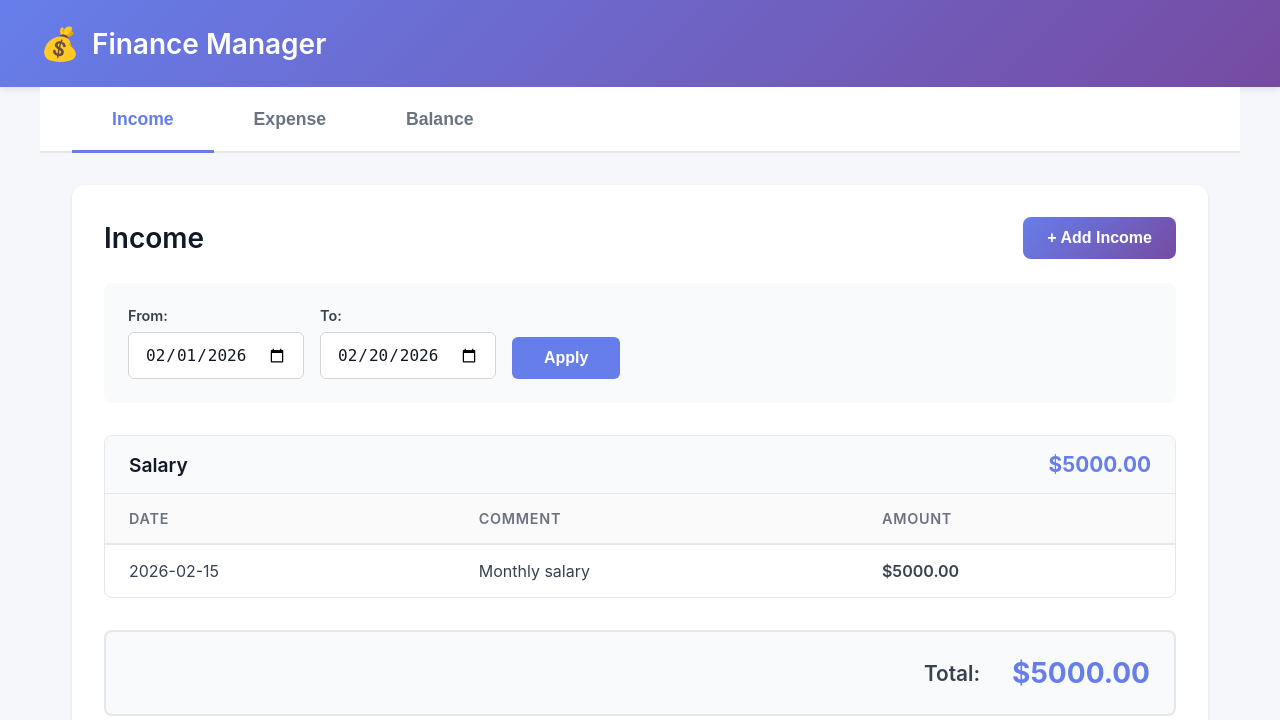
Test: Finance Manager - Balance Tab › Expenses View › should display expenses in Category and Amount format
The image size is (1280, 720).
expect the header with class "app-header" is shown: met, box [0, 0, 1279, 87]
expect the navigation bar with class "nav-tabs" is shown: met, box [40, 87, 1240, 153]
Click the button "Balance" at (440, 121), box [366, 89, 514, 153]
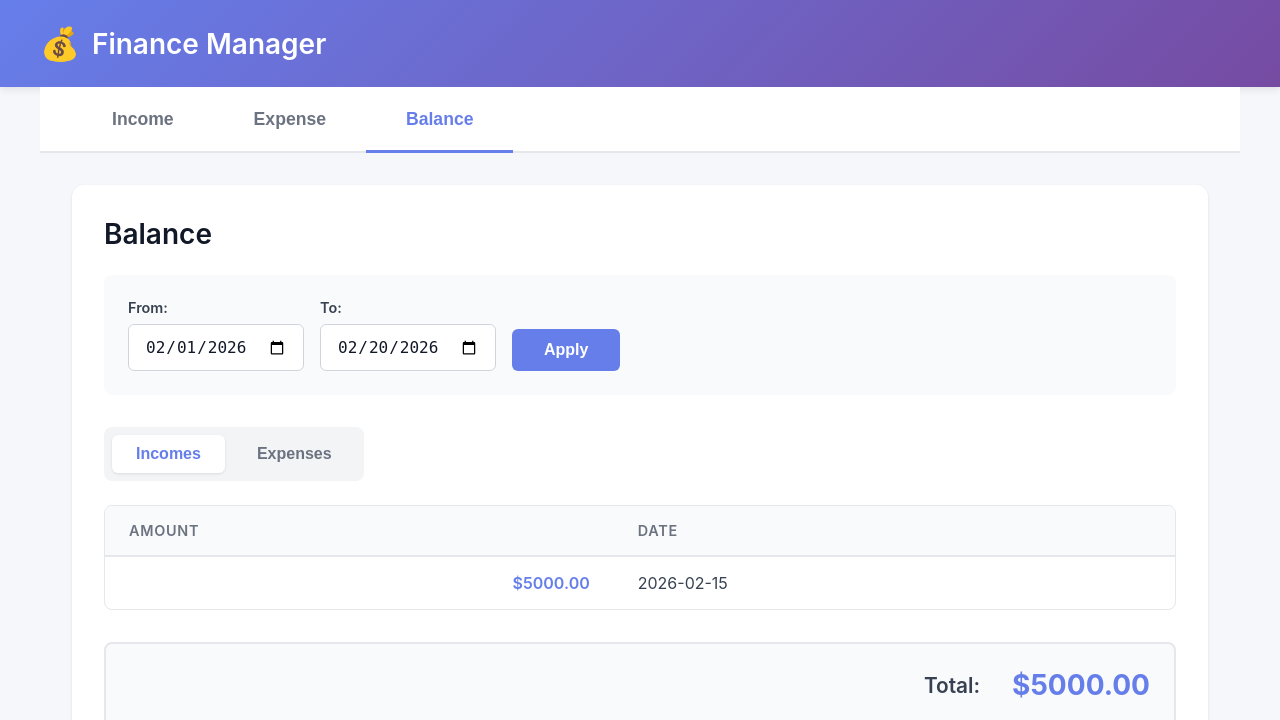
Click the button "Expenses" at (295, 454), box [233, 435, 356, 473]
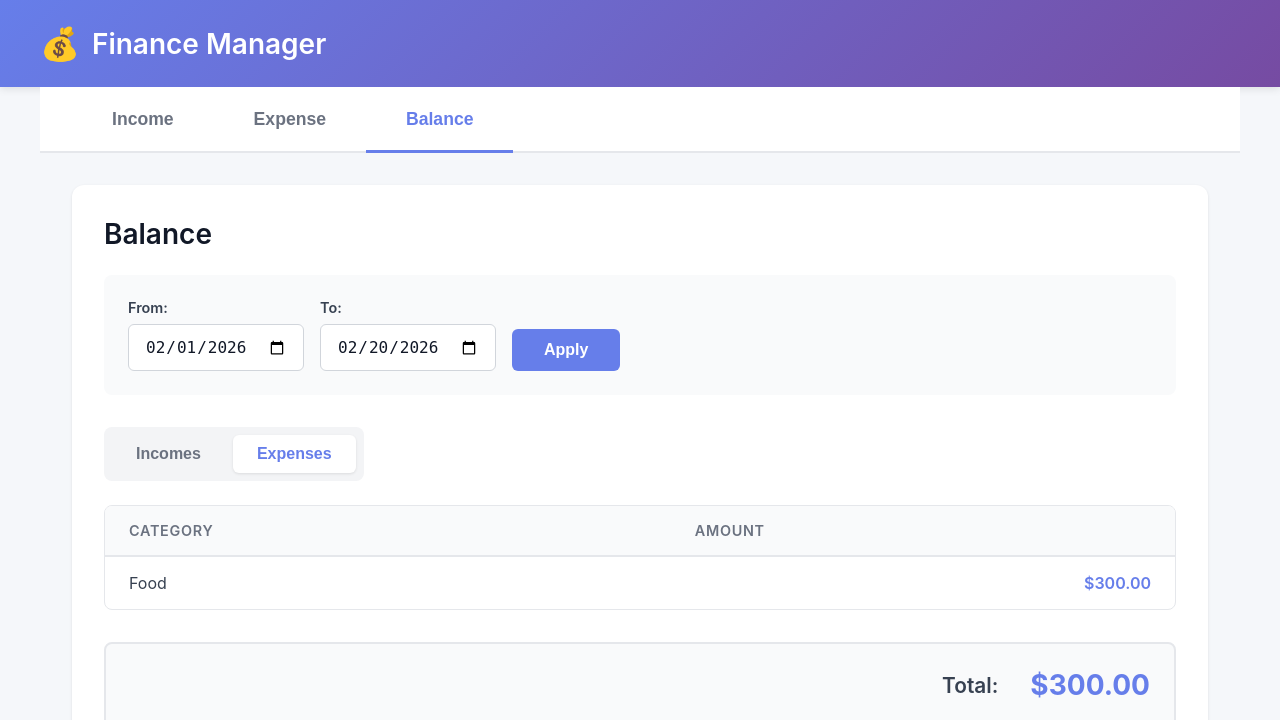
expect the column heading "Category" is shown: met, box [105, 506, 671, 556]
expect the column heading "Amount" is shown: met, box [671, 506, 1175, 556]
